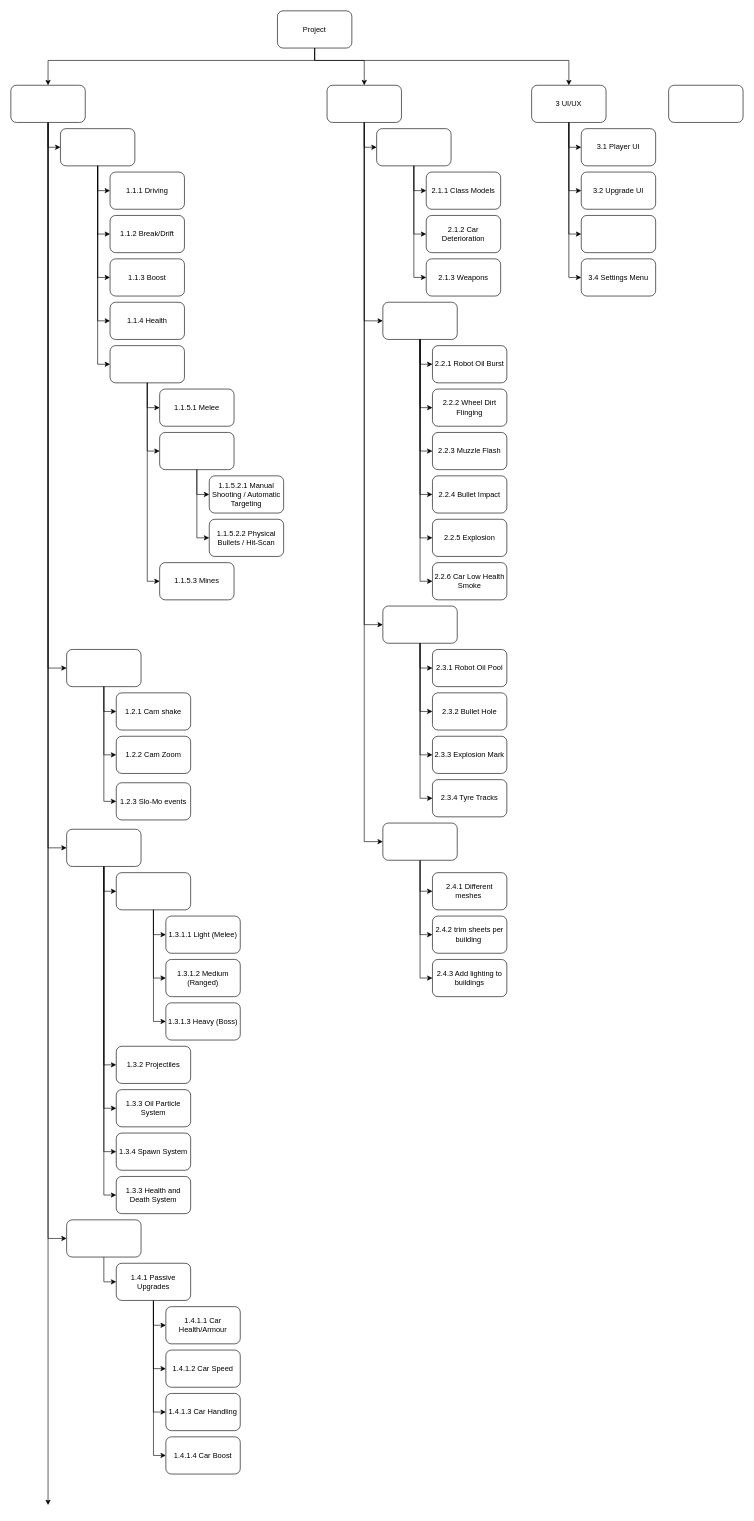
Image size: 754x1521. Some labels were removed from this diagram. The shapes that lost their labels are listed below. From the top down, each one's box as (x1, y1, x2, y2) in pixels, then its label:
(10, 85, 85, 122): 1 Programming
(326, 85, 401, 122): 2 Art
(668, 85, 743, 122): 4 Design
(60, 128, 135, 166): 1.1 Car Mechanics
(376, 128, 451, 166): 2.1 Cars
(581, 215, 656, 253): 3.3 Pause Menu
(382, 302, 457, 339): 2.2 Particle Effects
(109, 345, 184, 383): 1.1.5 Weapons
(159, 432, 234, 470): 1.1.5.2 Turrets
(382, 605, 457, 643): 2.3 Decals
(66, 649, 141, 687): 1.2 Camera Mechanics
(66, 829, 141, 866): 1.3 Enemies
(382, 822, 457, 860): 2.4 Buildings
(116, 872, 191, 910): 1.3.1 Enemy Types
(66, 1219, 141, 1257): 1.4 Upgrade System
